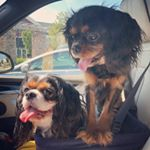puppy: (62, 4, 146, 147), (11, 71, 82, 146)
